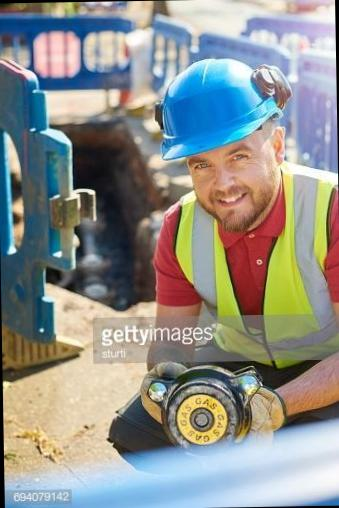Vest: (171, 183, 339, 384)
